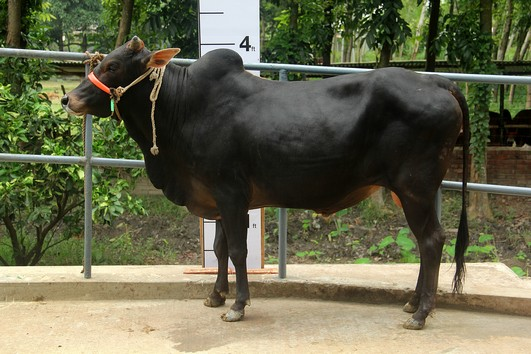cow: (54, 30, 478, 329)
